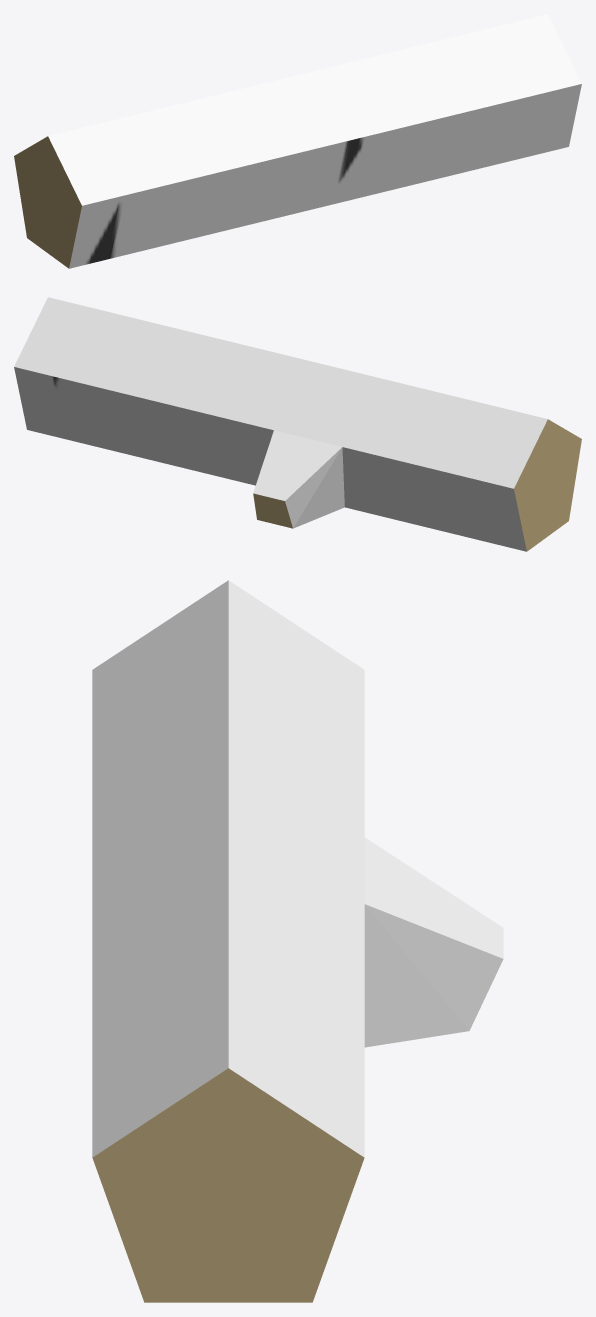
The model's file is Birch_Firewood_Snow_02_LOD.fbx.
3 views of the same model, one above another, from view 1: azimuth 30°, elevation 25°; view 2: azimuth 150°, elevation 25°; view 3: azimuth 270°, elevation 25° (orthographic). The views are drawn at different scales.
Parts seen in each view (by area): view 1: Birch_Firewood_Snow_02_LOD0; view 2: Birch_Firewood_Snow_02_LOD0; view 3: Birch_Firewood_Snow_02_LOD0.
Boxes of the visible parts, x1,y1,x2,y2 form: Birch_Firewood_Snow_02_LOD0: (14,14,581,268); Birch_Firewood_Snow_02_LOD0: (14,297,581,551); Birch_Firewood_Snow_02_LOD0: (92,580,503,1302).
Size of what is drawn, in the model's own units: 56 by 12.56 by 19.95.
